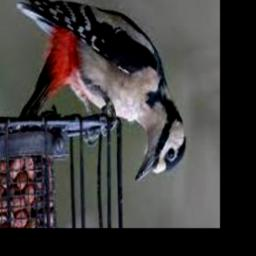Woodpecker: (17, 0, 187, 183)
